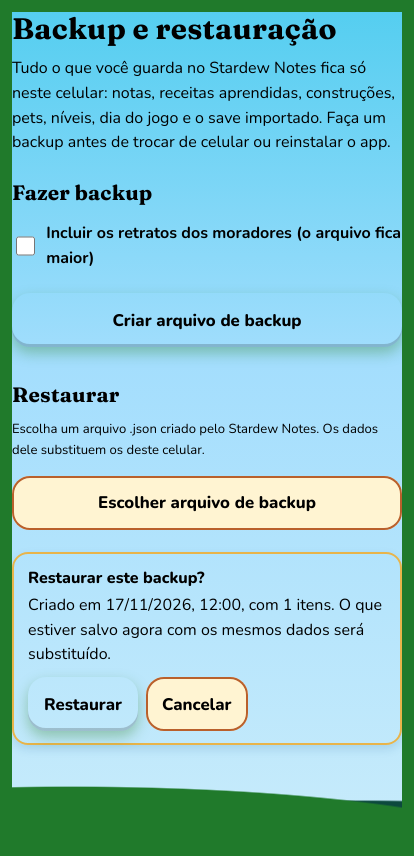
Test: Backup (interface) › pede confirmação antes de restaurar um backup válido
Earlier steps of the test are not shown.
Expected: the text "Restaurar este backup?" is shown, x1=28 y1=567 x2=205 y2=589
Expected: the text "com 1 itens" is shown, x1=12 y1=552 x2=402 y2=745
Click the button "Cancelar".
click(197, 704)  # box x1=146 y1=677 x2=248 y2=731
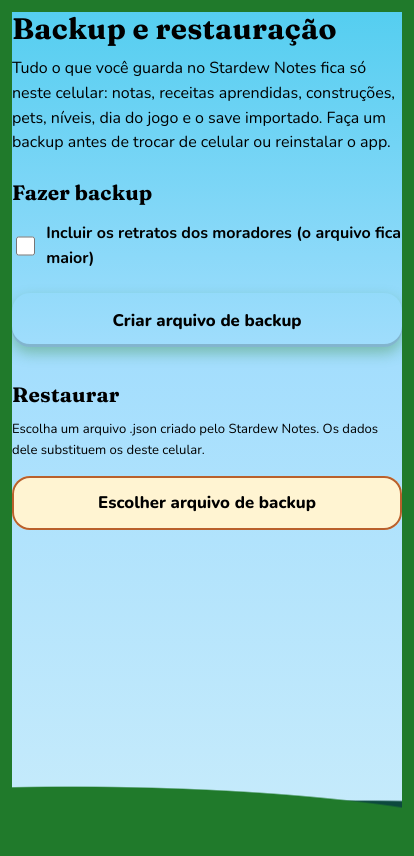
Result: the text "Restaurar este backup?" is gone
